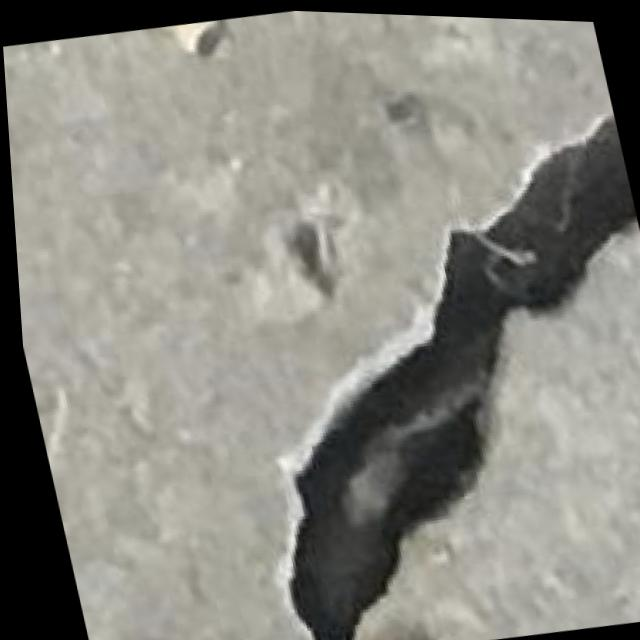Crack: (151, 114, 640, 640)
